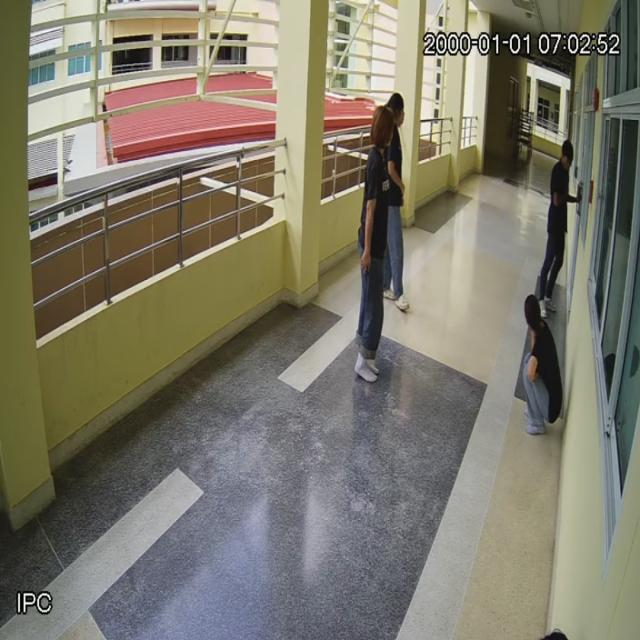normal: (353, 110, 392, 385), (542, 142, 578, 319), (521, 292, 563, 438), (390, 94, 409, 315)
